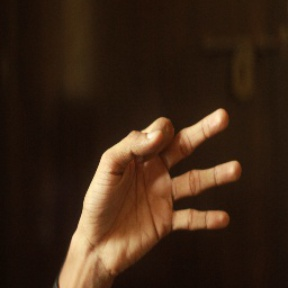K: (71, 106, 248, 261)
